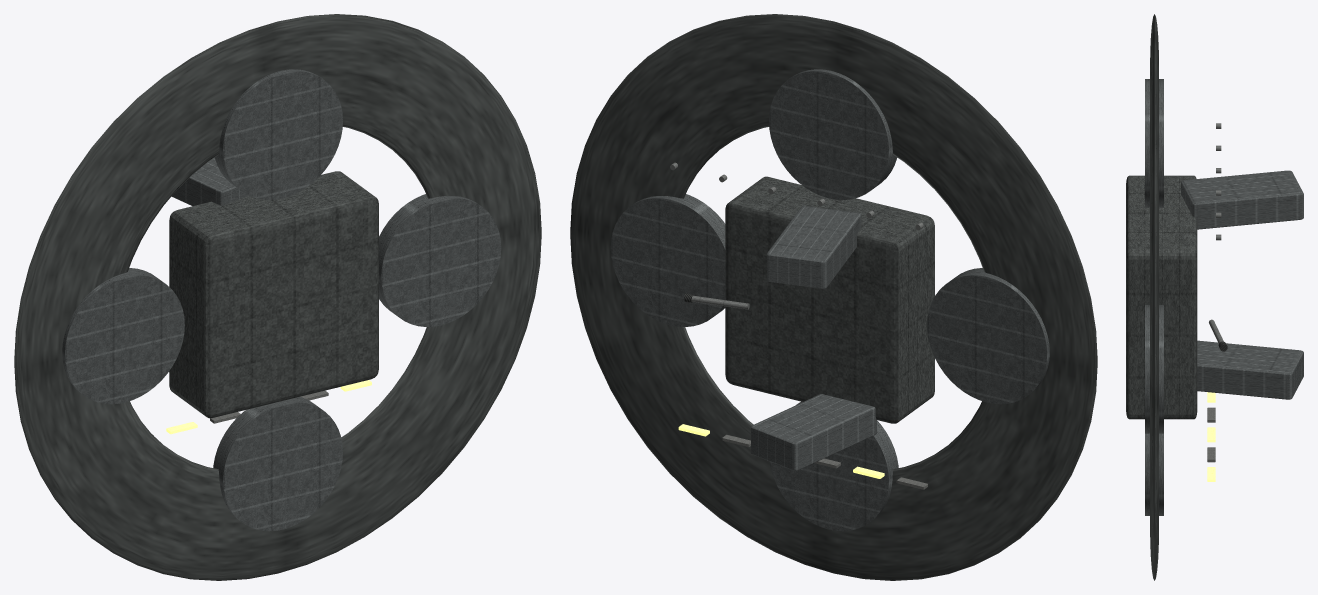
Rendered from c-u12-repair-drone-lod0.glb.
3 renders of one model, left to right at view 1: azimuth 30°, elevation 25°; view 2: azimuth 150°, elevation 25°; view 3: azimuth 270°, elevation 25°, orthographic. The views are drawn at different scales.
Parts seen in each view (by area): view 1: drone_ring, drone_core, drone_fan_3, drone_fan_0, drone_fan_1, drone_fan_2, service_claw_1; view 2: drone_ring, drone_core, drone_fan_1, drone_fan_2, drone_fan_0, drone_fan_3, service_claw_-1, service_claw_1; view 3: drone_core, service_claw_1, service_claw_-1, drone_ring, drone_fan_0, drone_fan_1, drone_fan_3.
Boxes of the visible parts, box(x1,y1,x2,y2) form: drone_ring: box(14, 14, 541, 580); drone_core: box(169, 171, 378, 418); drone_fan_3: box(213, 397, 342, 531); drone_fan_0: box(379, 194, 501, 326); drone_fan_1: box(214, 69, 342, 199); drone_fan_2: box(62, 268, 184, 404); service_claw_1: box(171, 158, 248, 206); drone_ring: box(570, 14, 1097, 580); drone_core: box(725, 176, 934, 423); drone_fan_1: box(769, 69, 897, 199); drone_fan_2: box(927, 268, 1049, 404); drone_fan_0: box(610, 194, 725, 326); drone_fan_3: box(769, 401, 898, 531); service_claw_-1: box(751, 394, 876, 470); service_claw_1: box(767, 205, 861, 288); drone_core: box(1126, 175, 1197, 419); service_claw_1: box(1181, 170, 1303, 229); service_claw_-1: box(1197, 340, 1303, 399); drone_ring: box(1150, 14, 1158, 580); drone_fan_0: box(1145, 305, 1163, 433); drone_fan_1: box(1145, 79, 1163, 207); drone_fan_3: box(1145, 433, 1163, 515).
Size of what is drawn, in the model's own units: 5.61 by 5.61 by 1.76.
6 materials, 6 textured.
